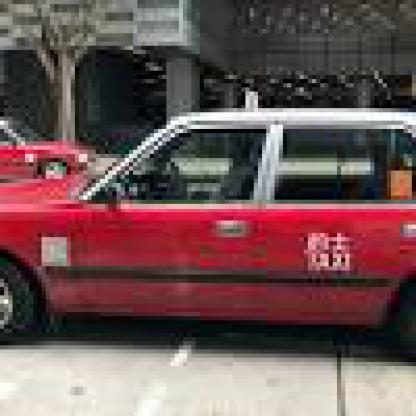taxi: (1, 88, 413, 384)
